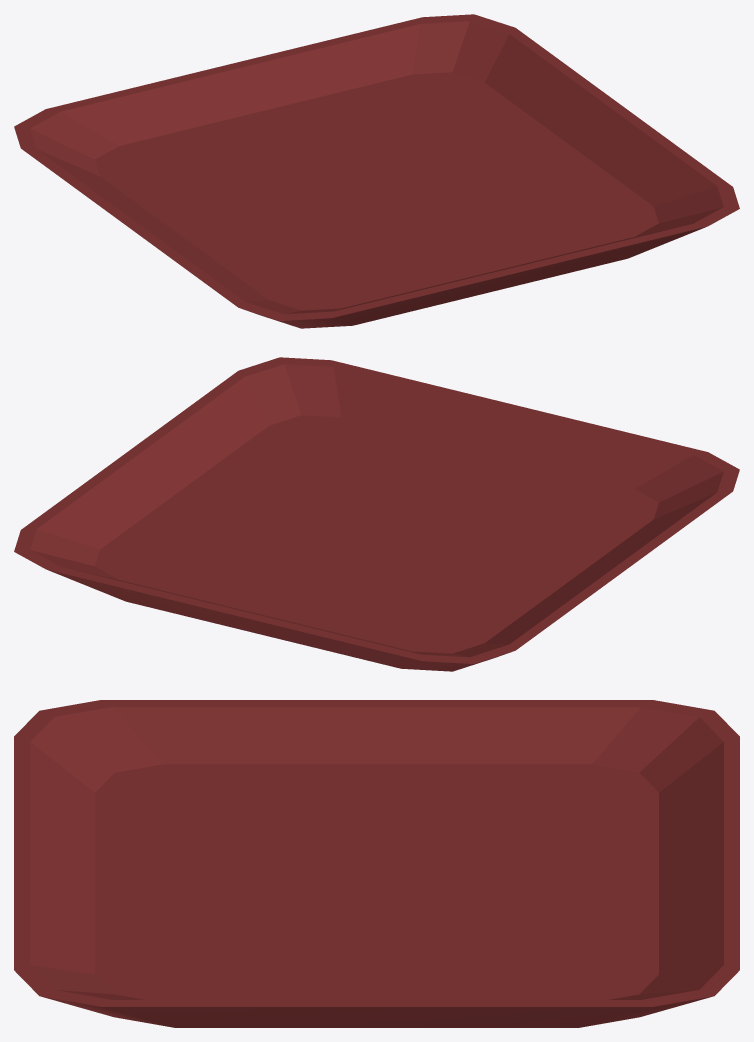
Rendered from basta_lagayan.fbx.
3 views of the same model, one above another, from view 1: azimuth 30°, elevation 25°; view 2: azimuth 150°, elevation 25°; view 3: azimuth 270°, elevation 25° (orthographic). The views are drawn at different scales.
Visible parts, largest first — view 1: pCube1; view 2: pCube1; view 3: pCube1.
Part boxes in pixels (bbox=[...]): pCube1: bbox=[14, 14, 739, 328]; pCube1: bbox=[14, 357, 739, 671]; pCube1: bbox=[14, 700, 739, 1027].
Size of the model in its own units: 10.66 by 0.853 by 10.66.
